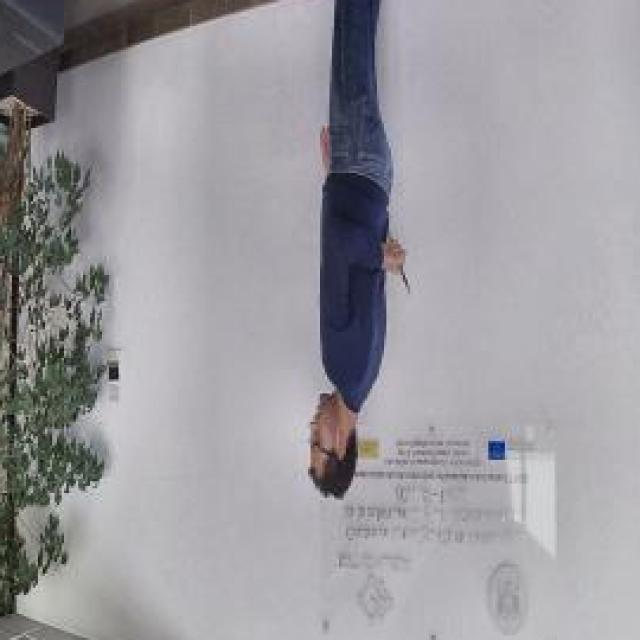knife: (386, 226, 414, 304)
